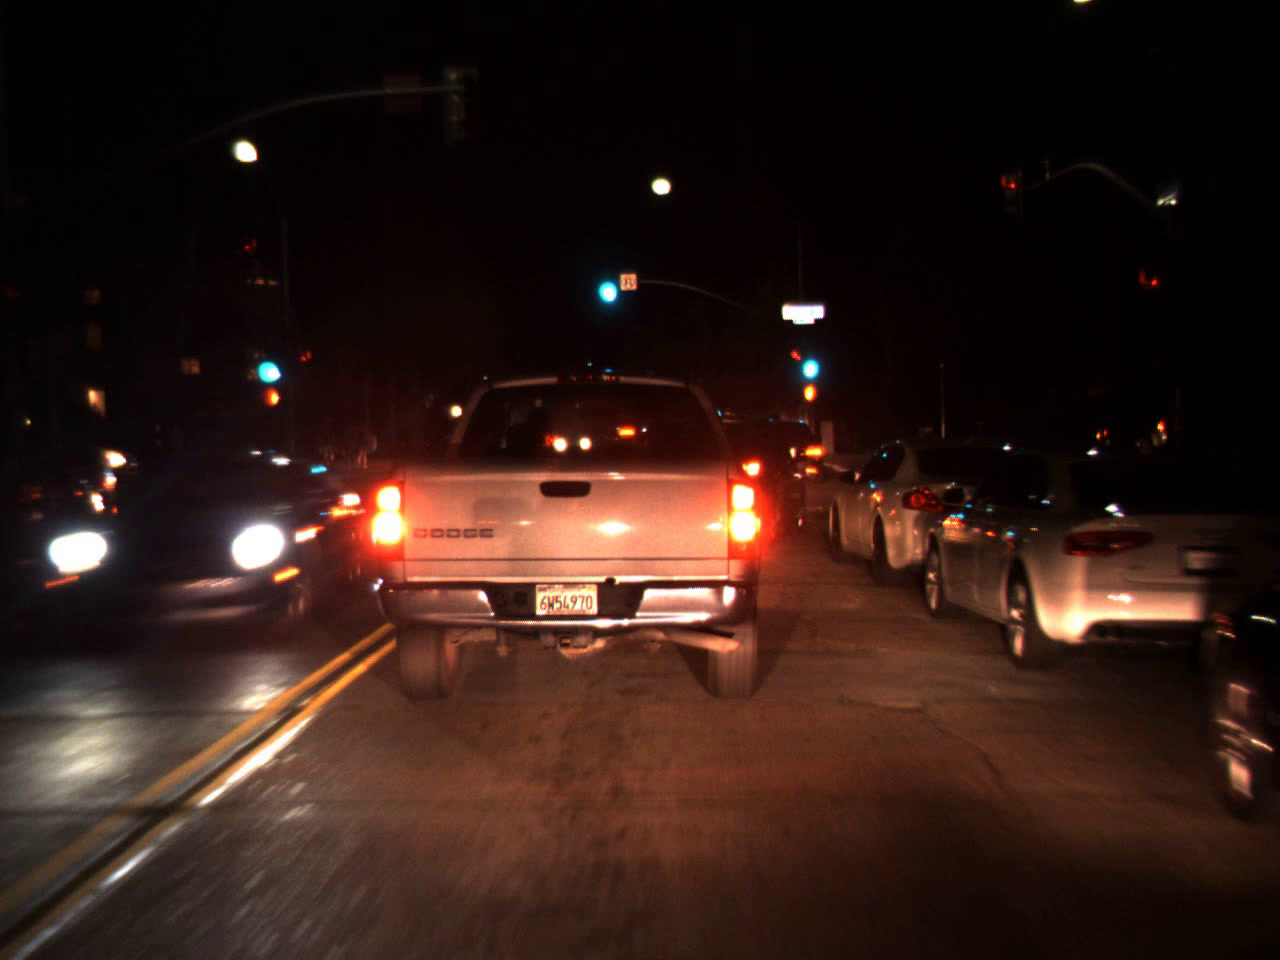go: (249, 334, 283, 391), (592, 256, 620, 310), (795, 333, 822, 387)
